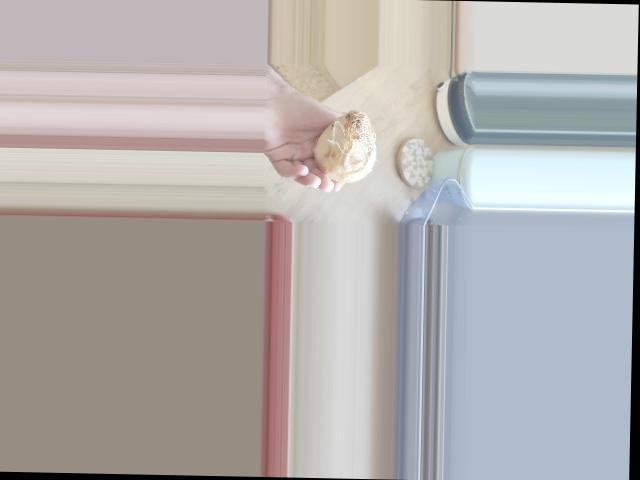onion: (313, 114, 384, 185)
